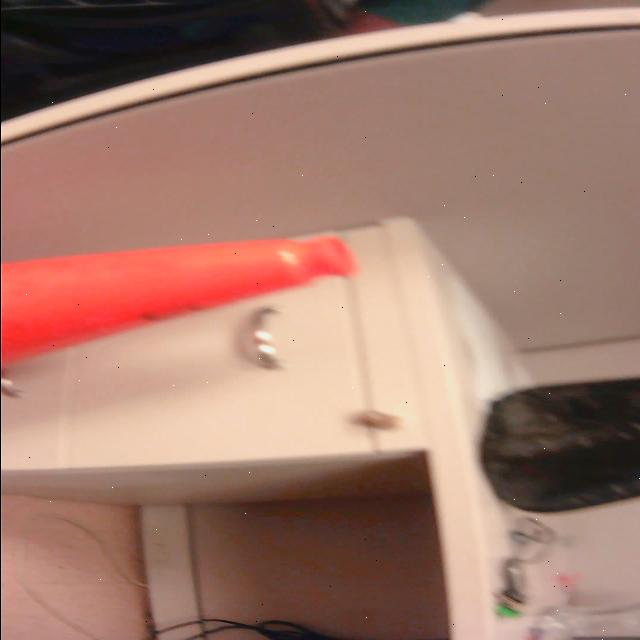traffic cone: (1, 230, 364, 384)
